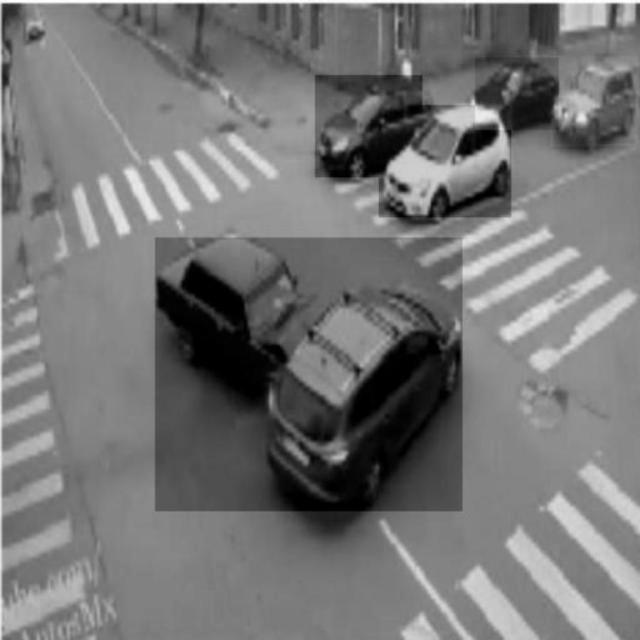accident: (155, 238, 462, 511)
vehicle: (379, 105, 511, 217), (315, 75, 423, 177), (551, 57, 639, 147), (476, 58, 559, 130)
